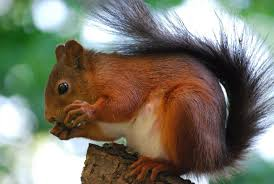Ardilla: (30, 35, 230, 169)
